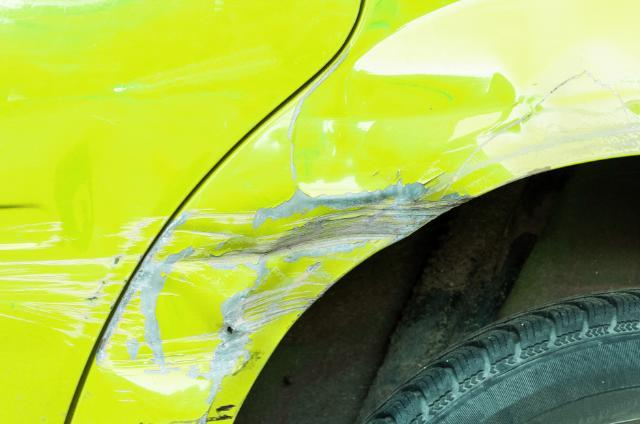Door: (3, 191, 133, 350)
Fender: (111, 69, 576, 408)
